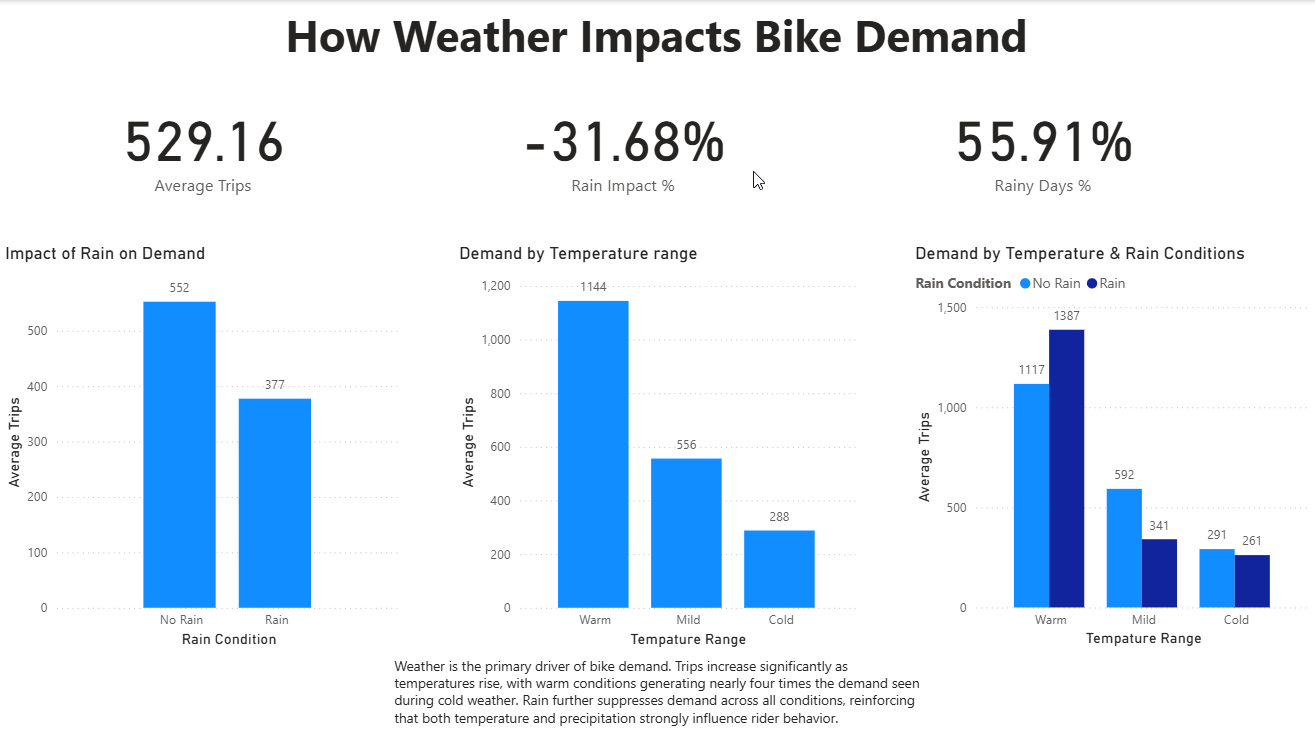

The dashboard page shown, as its layout file describes it:
{"tool":"powerbi","page":{"name":"Weather Impact","canvas":[1280,720],"ordinal":1},"visuals":[{"type":"card","fields":{"Values":["demand.Avg Trips"]},"box":[87.5,86.6,219.8,109.9],"z":0},{"type":"card","fields":{"Values":["demand.Rain Impact %"]},"box":[496,86.6,219.8,109.9],"z":1000},{"type":"clusteredColumnChart","title":"Impact of Rain on Demand","fields":{"Y":["demand.Avg Trips"],"Category":["demand.Rain Condition Label"]},"box":[0,236.4,394.9,397.8],"z":2000},{"type":"clusteredColumnChart","title":"Demand by Temperature & Rain Conditions","fields":{"Y":["demand.Avg Trips"],"Category":["demand.Temp Bucket Label"],"Series":["demand.Rain Condition Label"]},"box":[885.1,236.4,394.9,397.8],"z":3000},{"type":"clusteredColumnChart","title":"Demand by Temperature range","fields":{"Y":["demand.Avg Trips"],"Category":["demand.Temp Bucket Label"]},"box":[441.6,236.4,395.9,397.8],"z":4000},{"type":"textbox","box":[272.3,0,742.1,72],"z":5000},{"type":"textbox","box":[378.4,633.2,530.1,86.6],"z":6000},{"type":"card","fields":{"Values":["demand.Rainy Days %"]},"box":[904.6,86.6,219.8,108.9],"z":6001}]}

Visuals, with their boxes in screenshot pixels (x1, y1, x2, y2), scaled from the page's 1280x720 canvas onto the 1315x740 screenshot:
card - demand.Avg Trips: box=[90, 89, 316, 202]
card - demand.Rain Impact %: box=[510, 89, 735, 202]
"Impact of Rain on Demand" clusteredColumnChart: box=[0, 243, 406, 652]
"Demand by Temperature & Rain Conditions" clusteredColumnChart: box=[909, 243, 1314, 652]
"Demand by Temperature range" clusteredColumnChart: box=[454, 243, 860, 652]
textbox: box=[280, 0, 1042, 74]
textbox: box=[389, 651, 933, 739]
card - demand.Rainy Days %: box=[929, 89, 1155, 201]
